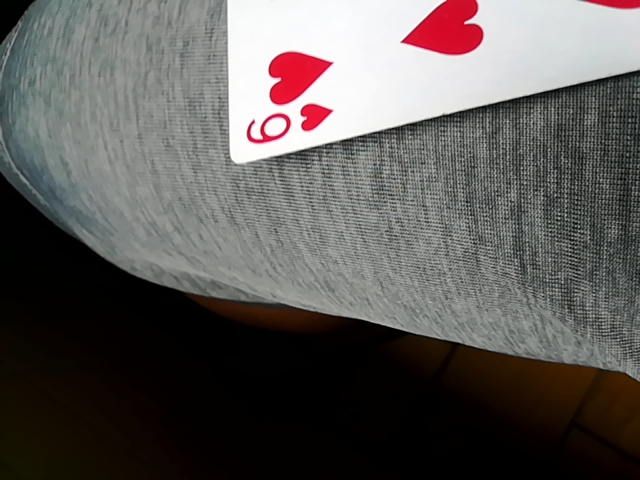hx 6: (216, 0, 639, 160)
